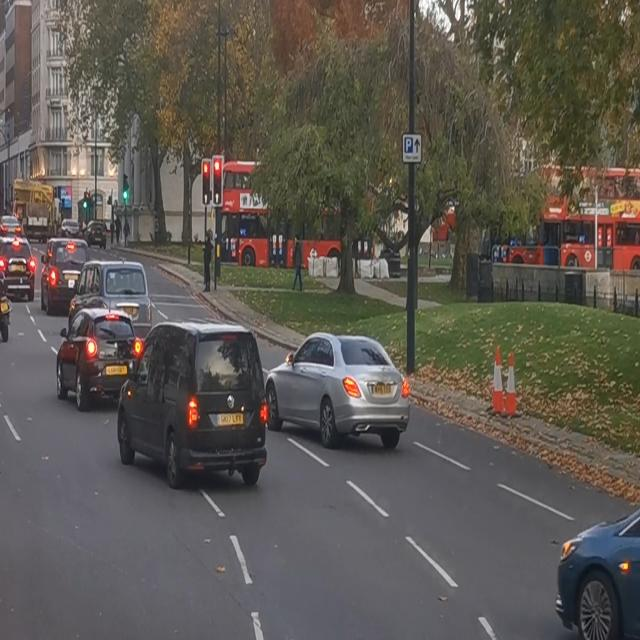Car: (115, 320, 269, 491), (268, 329, 414, 441), (56, 304, 146, 410), (64, 256, 161, 338), (39, 235, 94, 317), (0, 234, 36, 304)
